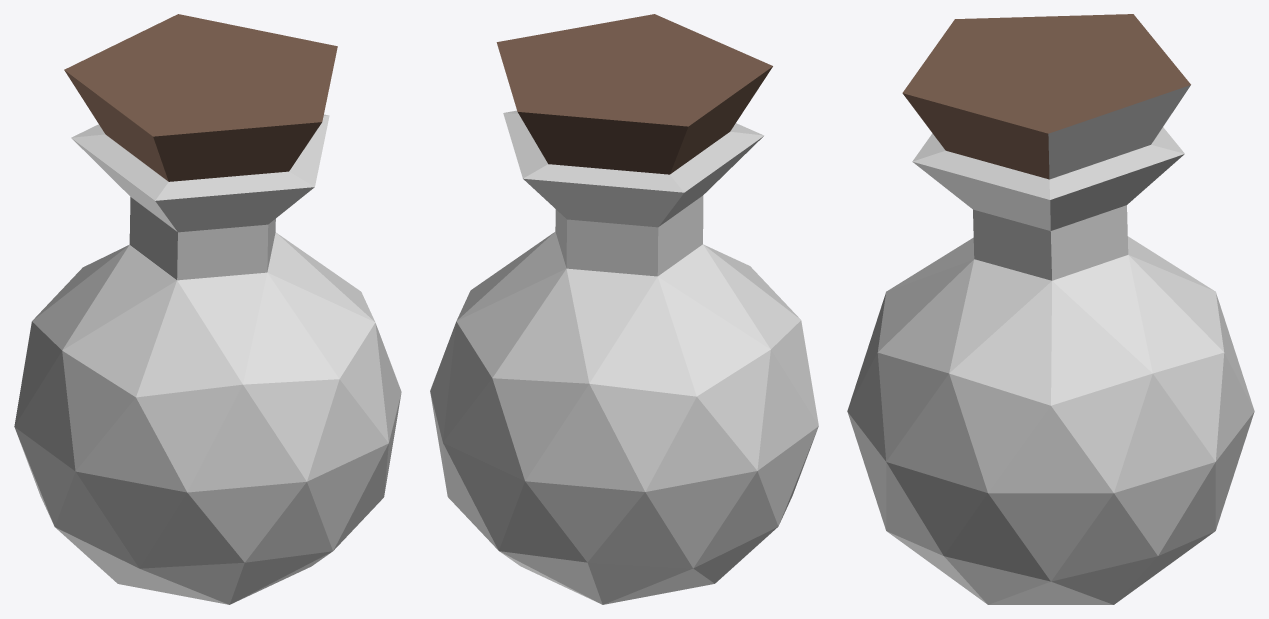
The model's file is elixir2.fbx.
3 renders of one model, left to right at view 1: azimuth 30°, elevation 25°; view 2: azimuth 150°, elevation 25°; view 3: azimuth 270°, elevation 25°, orthographic. The views are drawn at different scales.
Parts seen in each view (by area): view 1: Icosphere, Icosphere.002; view 2: Icosphere, Icosphere.002; view 3: Icosphere, Icosphere.002.
Boxes of the visible parts, x1=… form: Icosphere: x1=14, y1=114, x2=401, y2=604; Icosphere.002: x1=64, y1=14, x2=337, y2=181; Icosphere: x1=430, y1=110, x2=818, y2=604; Icosphere.002: x1=496, y1=14, x2=772, y2=174; Icosphere: x1=847, y1=127, x2=1254, y2=604; Icosphere.002: x1=902, y1=14, x2=1190, y2=179.
Bounding box in the file's own units: 190 × 287 × 200.
